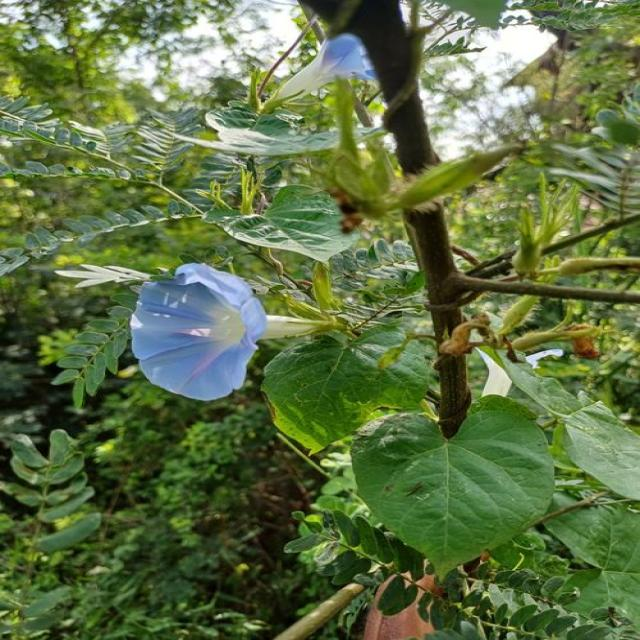ipomoea: (124, 260, 273, 404), (264, 31, 379, 112)
